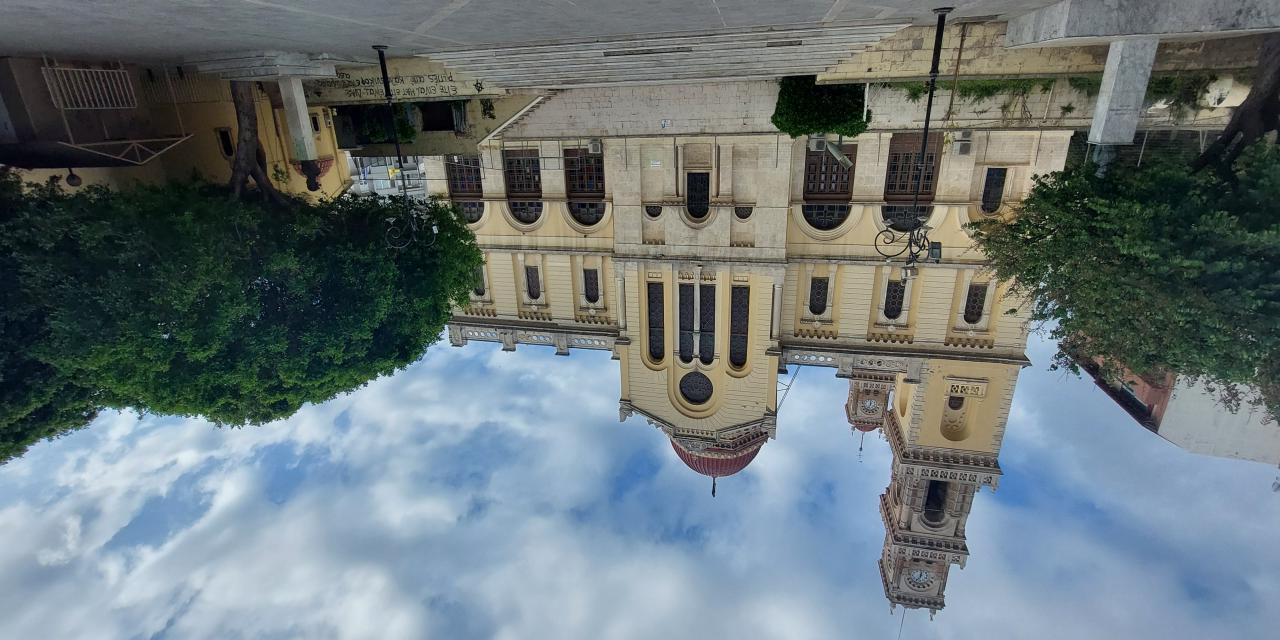Agios Minas: (424, 120, 1075, 637)
